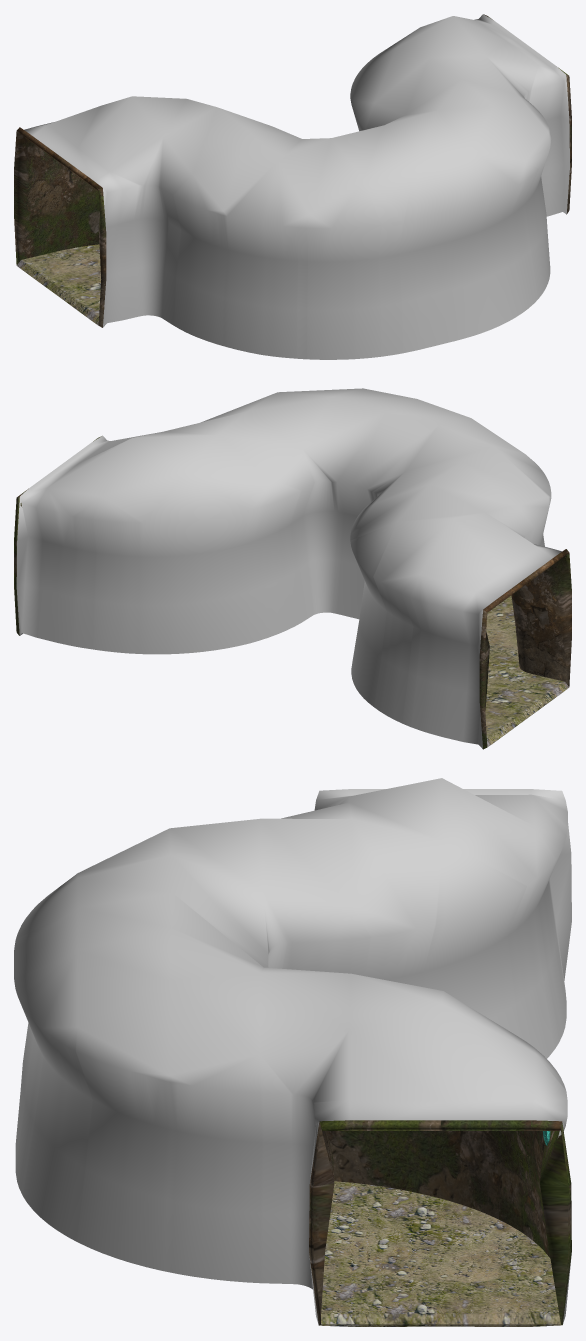
The model's file is passage_impact_nursery_s.obj.
3 views of the same model, one above another, from view 1: azimuth 30°, elevation 25°; view 2: azimuth 150°, elevation 25°; view 3: azimuth 270°, elevation 25° (orthographic). The views are drawn at different scales.
Visible parts, largest first — view 1: Passage_impact_nursery_s; view 2: Passage_impact_nursery_s; view 3: Passage_impact_nursery_s.
Boxes of the visible parts, x1,y1,x2,y2 form: Passage_impact_nursery_s: (14,14,571,359); Passage_impact_nursery_s: (14,388,571,749); Passage_impact_nursery_s: (14,778,571,1326).
Size of the model in its own units: 848 by 321 by 596.
